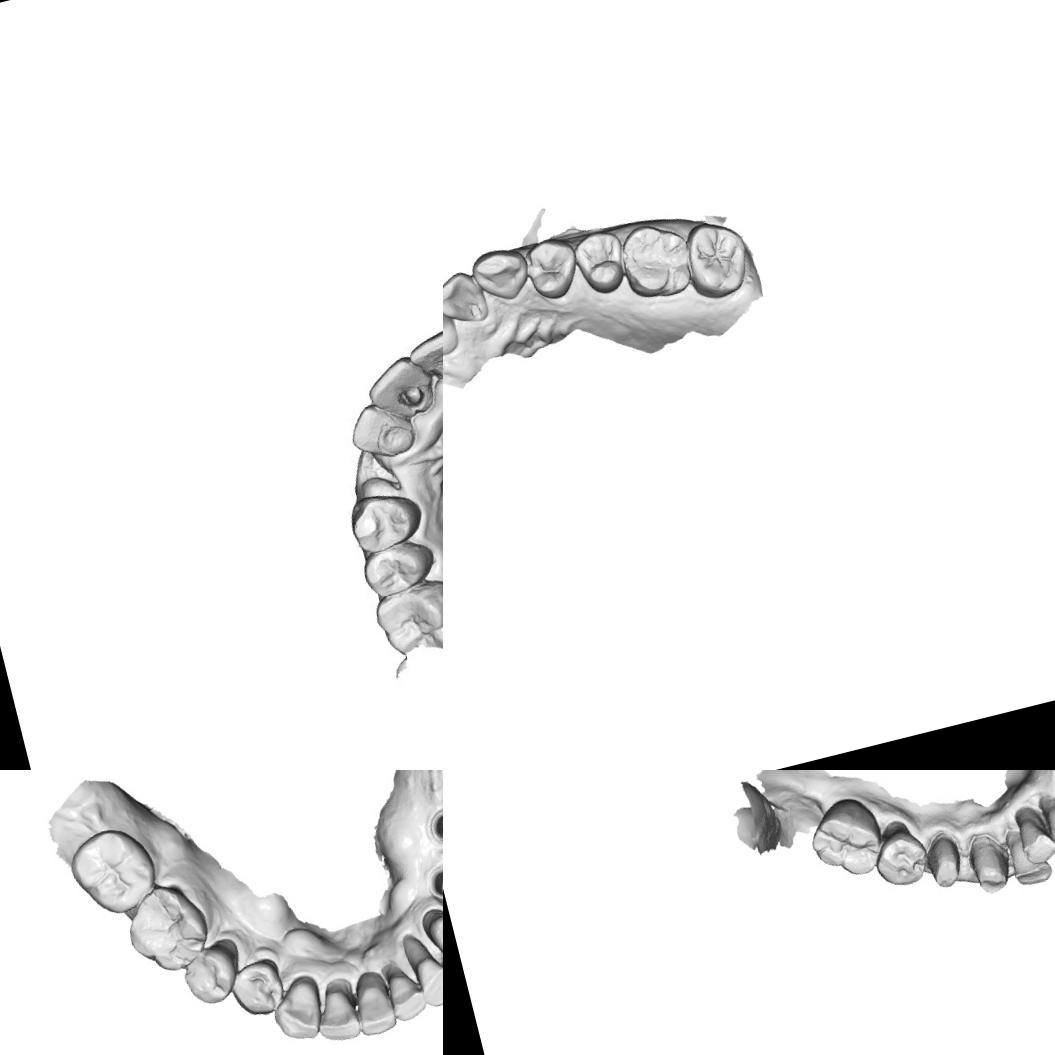abutment: (424, 861, 443, 906), (425, 803, 443, 849)
canine: (263, 975, 332, 1049), (466, 241, 536, 308), (422, 902, 443, 972)
crown: (963, 831, 1017, 899), (920, 832, 969, 892)
incisor: (342, 393, 420, 467), (362, 351, 436, 427), (347, 977, 401, 1040), (402, 319, 443, 399), (310, 984, 362, 1046), (443, 264, 491, 331), (1002, 827, 1054, 888), (382, 967, 432, 1024), (1013, 811, 1055, 868), (410, 947, 443, 1011), (443, 294, 463, 367), (1042, 798, 1055, 857)
molar: (60, 817, 164, 926), (116, 873, 220, 981), (800, 788, 890, 886), (612, 215, 698, 306), (676, 212, 758, 304), (368, 572, 443, 662)
premolar: (352, 531, 443, 603), (341, 484, 426, 557), (517, 230, 585, 305), (176, 939, 244, 1011), (568, 224, 632, 298), (224, 954, 292, 1023), (867, 823, 935, 892)
